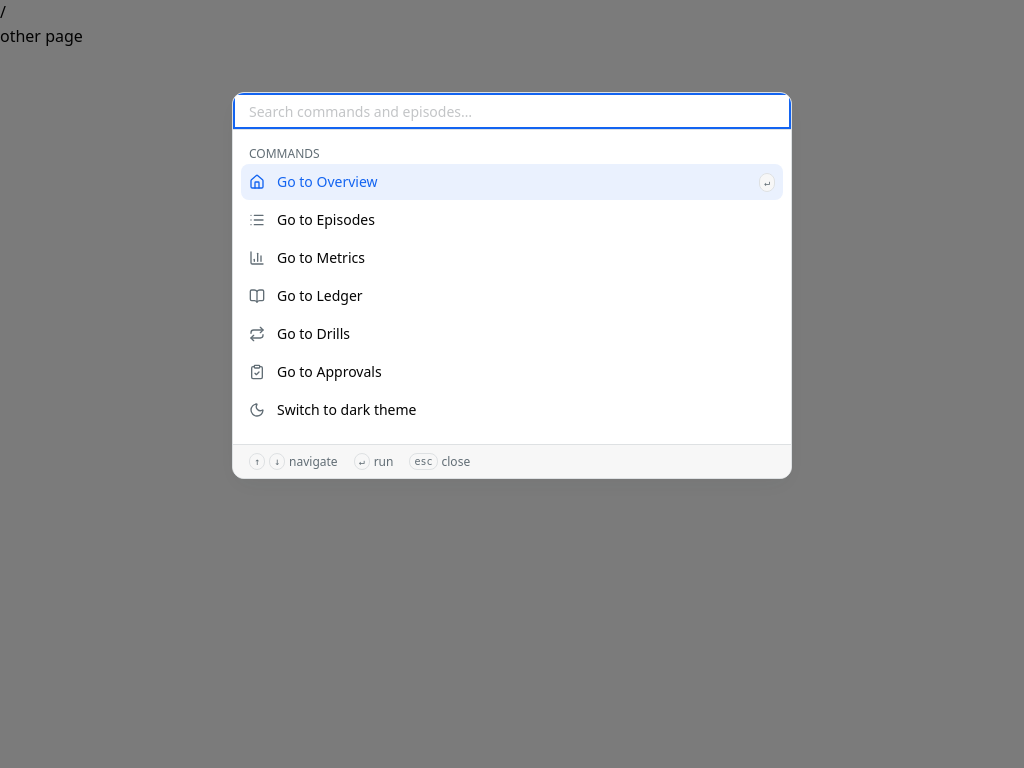
Test: CommandPalette › navigates to /episodes on Enter
Type "Go to Episodes" into the field with placeholder "Search commands and episodes…" at (512, 111), box x1=233 y1=93 x2=791 y2=129
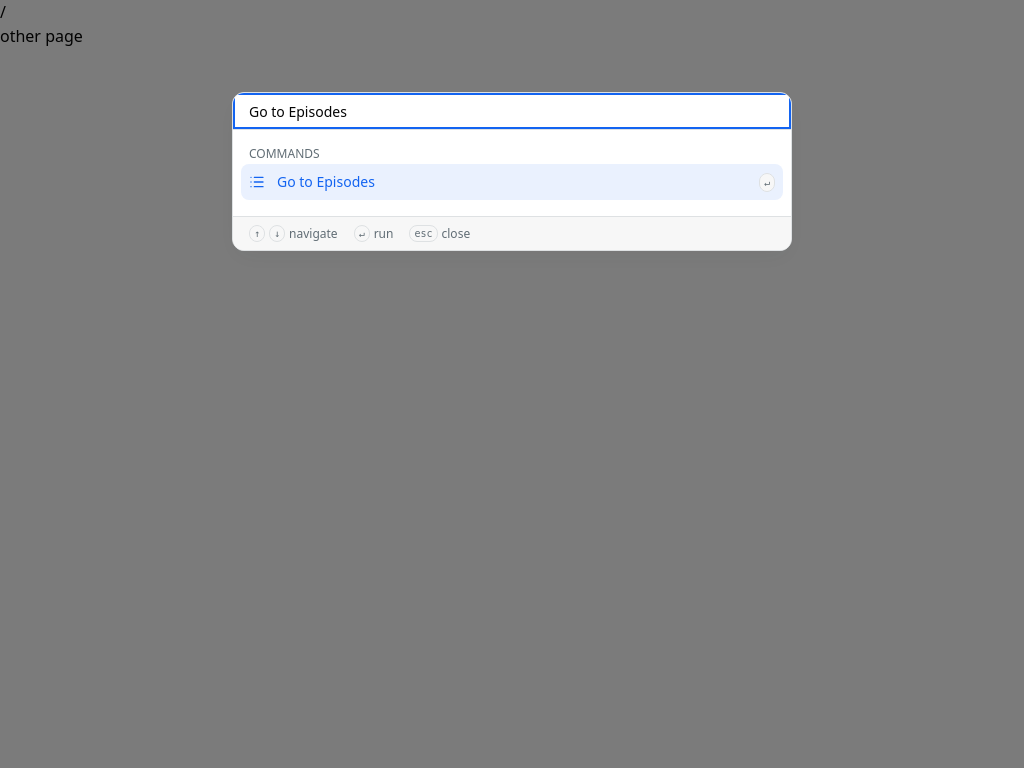
Press Enter
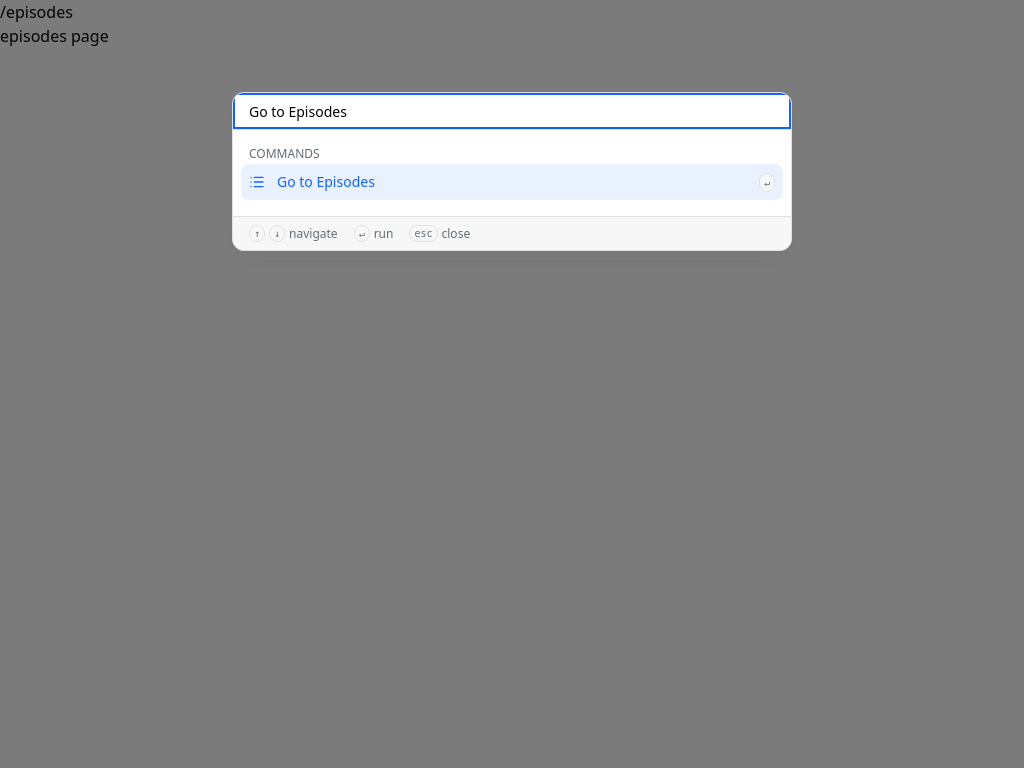
Expected: the text with test id "pathname" reads "/episodes", x1=0 y1=1 x2=73 y2=23
